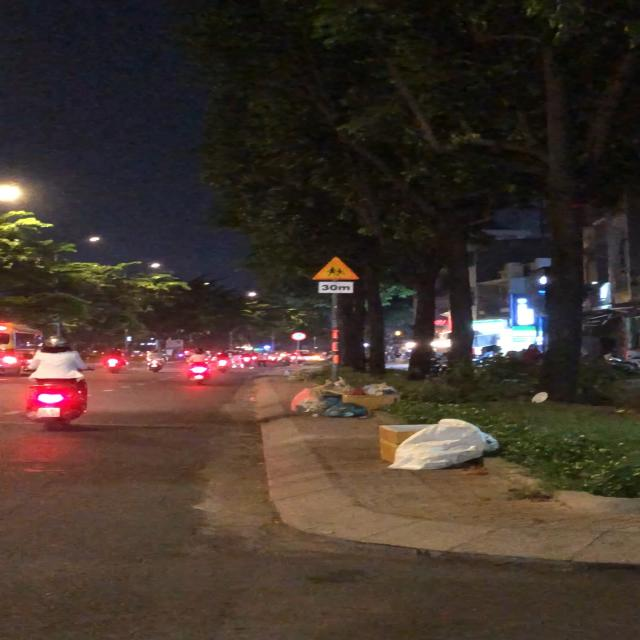Bien bao tre em: (310, 254, 362, 283)
